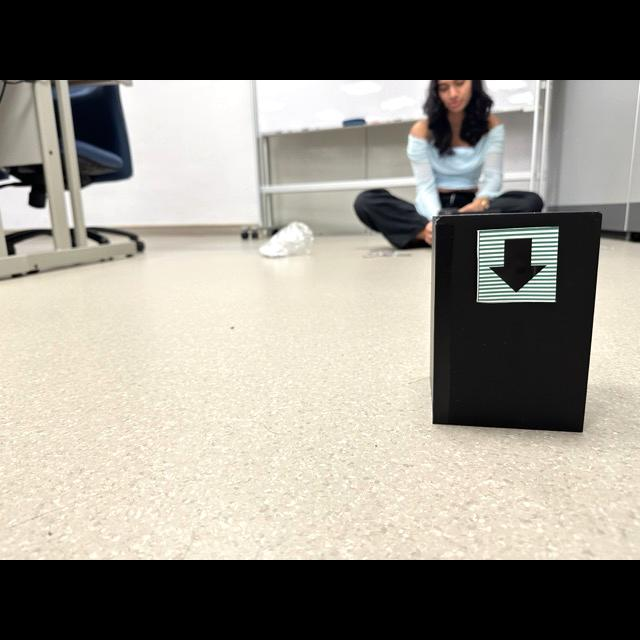DOWN: (490, 238, 547, 293)
